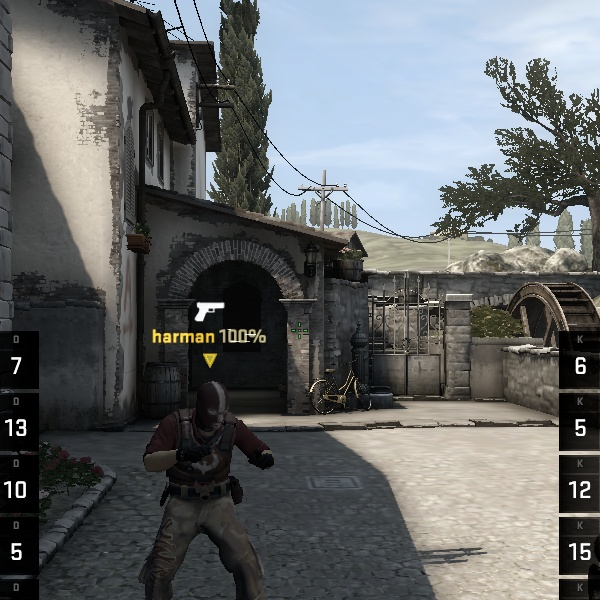t_body: (132, 372, 282, 597)
t_head: (179, 375, 239, 434)
